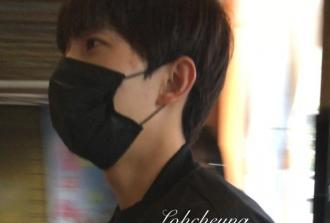OK: (46, 26, 181, 161)
